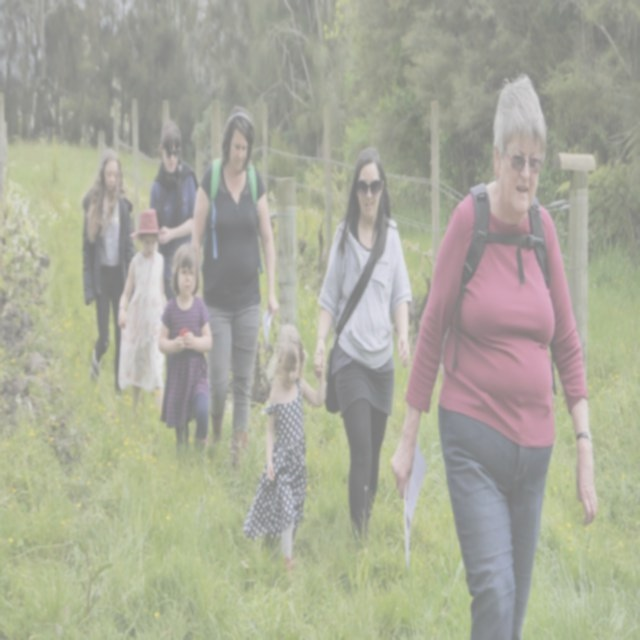pessoa: (386, 63, 604, 640), (313, 144, 415, 544), (189, 101, 282, 506), (244, 323, 326, 576), (81, 148, 136, 399), (158, 240, 213, 470), (116, 205, 168, 424), (148, 118, 200, 303), (93, 96, 134, 142)
